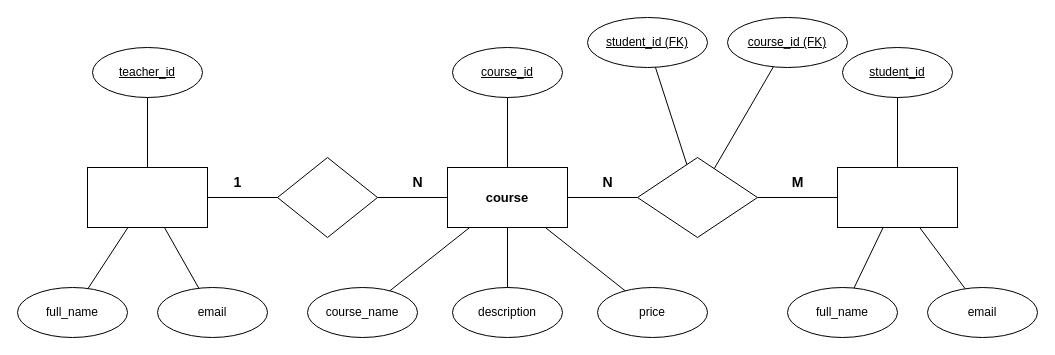
Some shapes in this 1055 by 355 pixel diagram are drawn without their labels. Here are the shapes that lost their labels. From the top down, the centre of each, then its label:
At point (147, 197): "teachers".
At point (327, 197): "teaches".
At point (697, 197): "enrollments".
At point (897, 197): "students".
